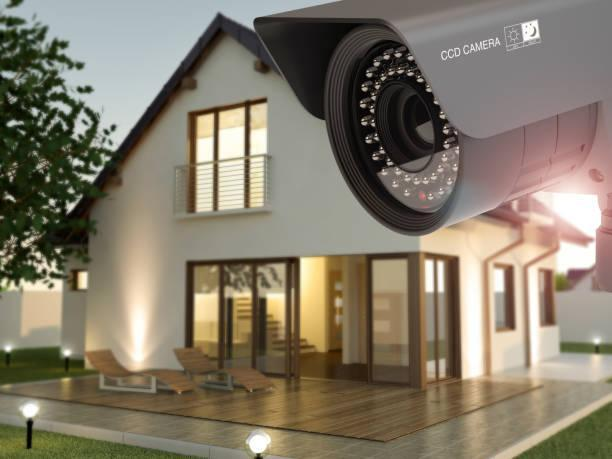camera: (239, 0, 612, 248)
